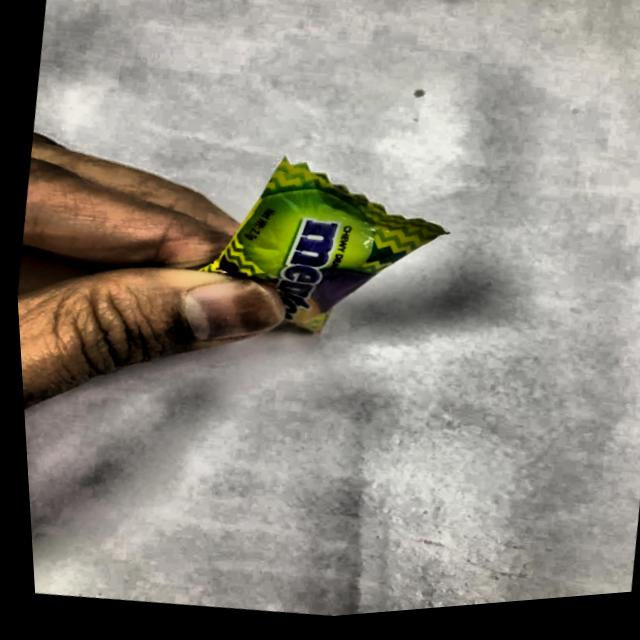Plastic: (181, 163, 443, 340)
